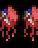eye: (0, 5, 19, 42), (21, 5, 38, 42)
